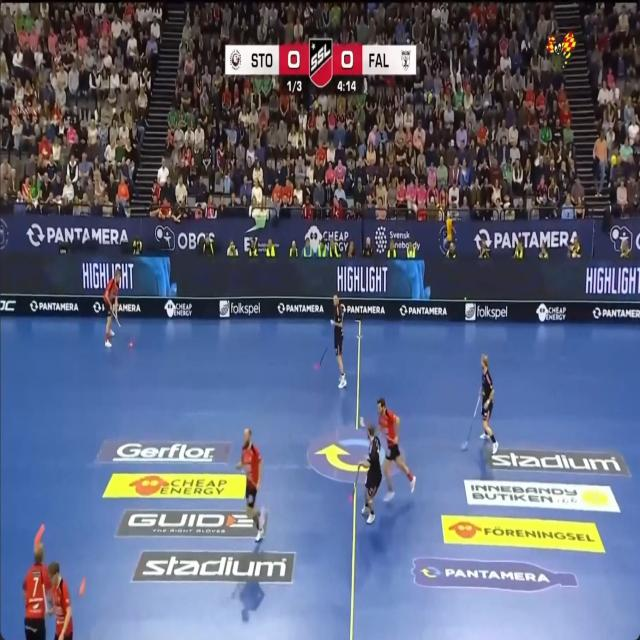Balls: (128, 339, 133, 347)
player: (377, 398, 415, 501), (236, 428, 265, 541), (22, 544, 52, 639), (360, 425, 381, 523), (48, 561, 72, 639), (481, 356, 498, 453), (103, 267, 121, 347), (331, 294, 346, 387), (361, 417, 363, 425)
